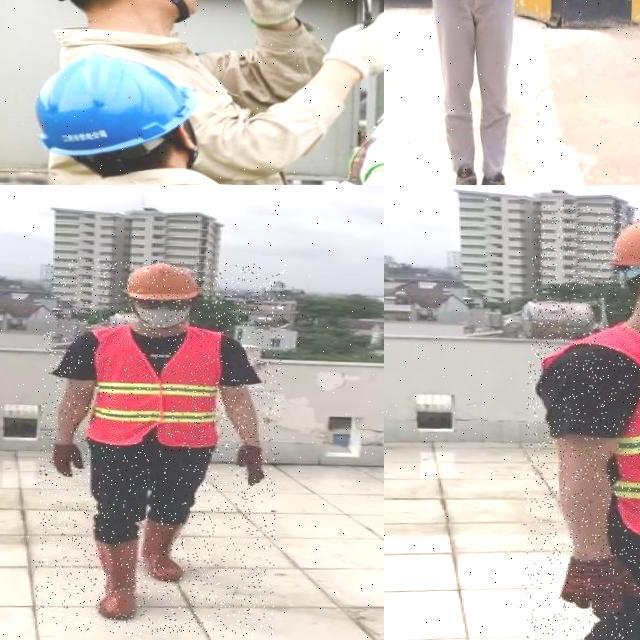boots: (91, 539, 142, 623), (140, 514, 188, 582), (476, 169, 517, 185), (444, 166, 478, 185)
helmet: (23, 45, 208, 166), (119, 258, 205, 302), (600, 207, 640, 279)
vest: (82, 324, 221, 449), (604, 327, 640, 540)
